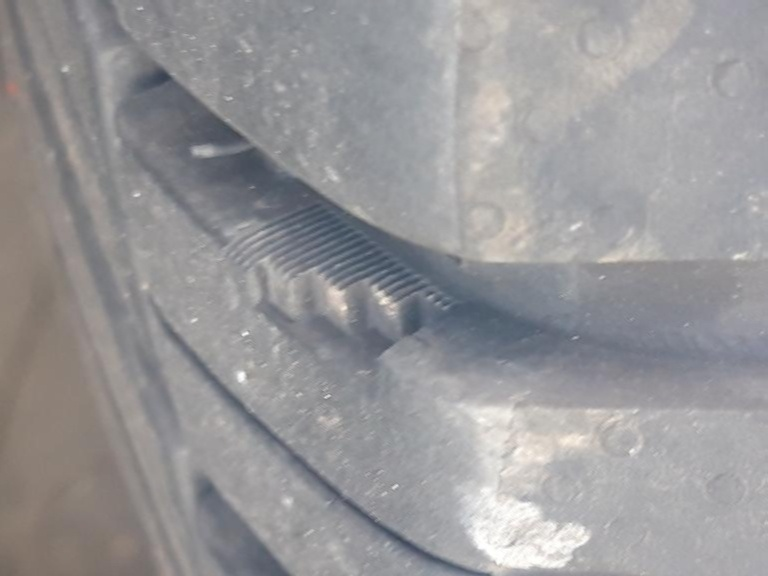temoin:90: (208, 190, 482, 410)
